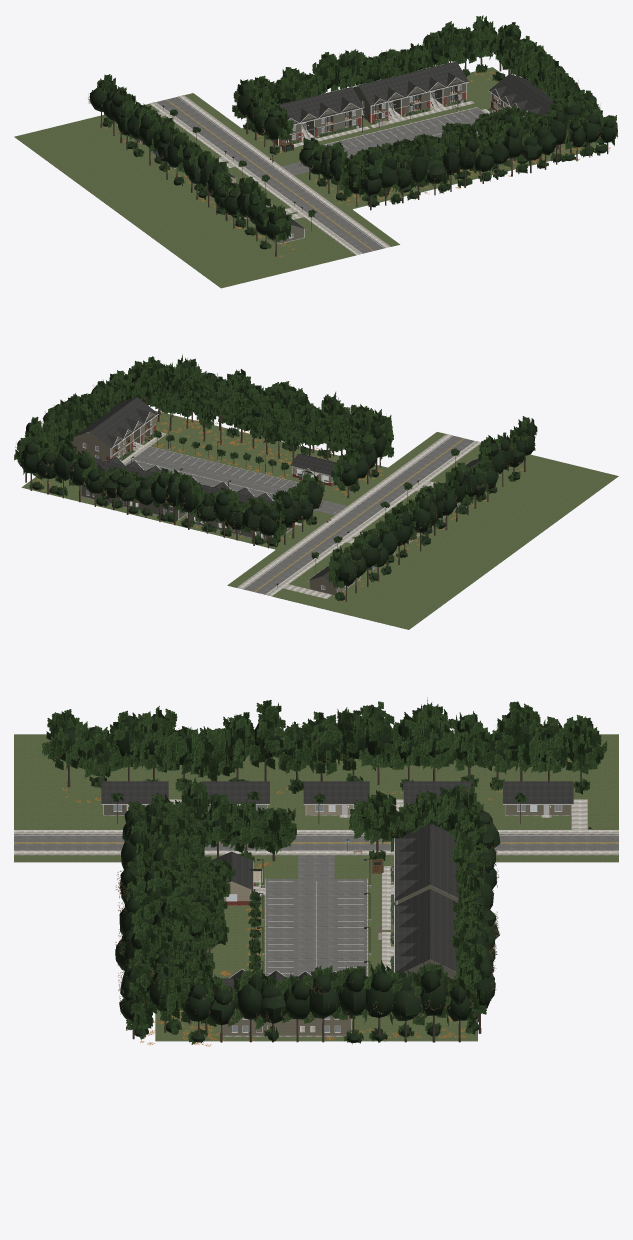
The model's file is us_community.glb.
3 views of the same model, one above another, from view 1: azimuth 30°, elevation 25°; view 2: azimuth 150°, elevation 25°; view 3: azimuth 270°, elevation 25° (orthographic). The views are drawn at different scales.
Visible parts, largest first — view 1: usc_grass, usc_tree_core, usc_tree_cards_b, usc_tree_cards_c, usc_asphalt, usc_tree_cards_a, usc_roof, usc_concrete, usc_trunks, bB_siding, usc_trim, usc_siding_777566 (+3 smaller); view 2: usc_grass, usc_tree_core, usc_tree_cards_b, usc_tree_cards_a, usc_tree_cards_c, usc_asphalt, usc_concrete, usc_roof, usc_trunks, usc_siding_8c8572, usc_leaf_litter, usc_twig_inner (+3 smaller); view 3: usc_grass, usc_tree_core, usc_tree_cards_b, usc_tree_cards_c, usc_tree_cards_a, usc_asphalt, usc_roof, usc_concrete, usc_twig_inner, usc_siding_8c8572, usc_trunks, usc_line_paint (+2 smaller).
Part boxes in pixels (box(x1,y1,x2,y2)): usc_grass: box(14, 67, 599, 288); usc_tree_core: box(90, 20, 616, 249); usc_tree_cards_b: box(109, 22, 602, 248); usc_tree_cards_c: box(111, 15, 617, 223); usc_asphalt: box(156, 97, 483, 253); usc_tree_cards_a: box(92, 25, 602, 243); usc_roof: box(186, 61, 555, 229); usc_concrete: box(117, 91, 497, 255); usc_trunks: box(100, 59, 608, 256); bB_siding: box(352, 78, 466, 120); usc_trim: box(117, 64, 527, 243); usc_siding_777566: box(270, 103, 361, 243); usc_grass: box(21, 411, 618, 629); usc_tree_core: box(17, 360, 535, 600); usc_tree_cards_b: box(25, 362, 528, 582); usc_tree_cards_a: box(17, 354, 537, 600); usc_tree_cards_c: box(14, 360, 512, 575); usc_asphalt: box(125, 435, 474, 594); usc_concrete: box(81, 427, 497, 598); usc_roof: box(74, 397, 478, 587); usc_trunks: box(25, 397, 525, 601); usc_siding_8c8572: box(71, 413, 359, 594); usc_leaf_litter: box(36, 412, 523, 600); usc_twig_inner: box(15, 360, 534, 598); usc_grass: box(14, 734, 618, 1041); usc_tree_core: box(54, 706, 596, 1042); usc_tree_cards_b: box(75, 697, 570, 1044); usc_tree_cards_c: box(107, 701, 545, 1044); usc_tree_cards_a: box(42, 700, 607, 1039); usc_asphalt: box(14, 834, 618, 977); usc_roof: box(101, 781, 573, 992); usc_concrete: box(14, 799, 618, 1036); usc_twig_inner: box(51, 703, 580, 1043); usc_siding_8c8572: box(222, 805, 571, 1035); usc_trunks: box(67, 759, 581, 1042); usc_line_paint: box(14, 835, 618, 973).
Bounding box in the file's own units: 149 × 78.83 × 120.
Materials: 55 (35 with a texture image).
